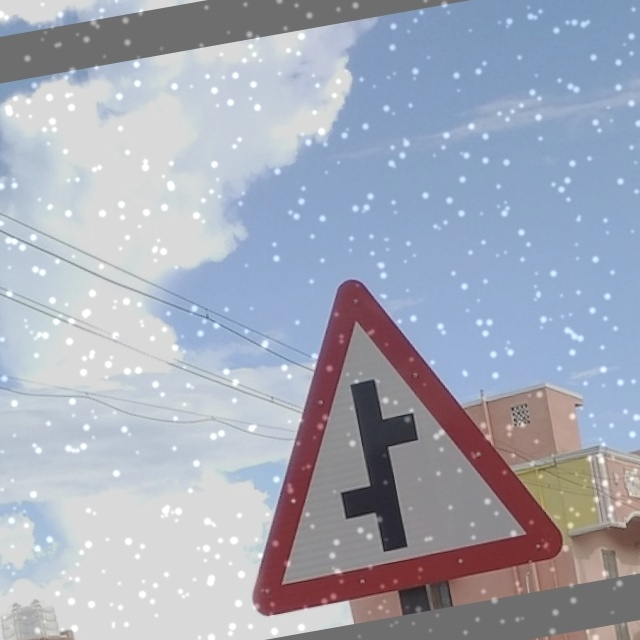Staggered_Intersection: (186, 226, 566, 624)
